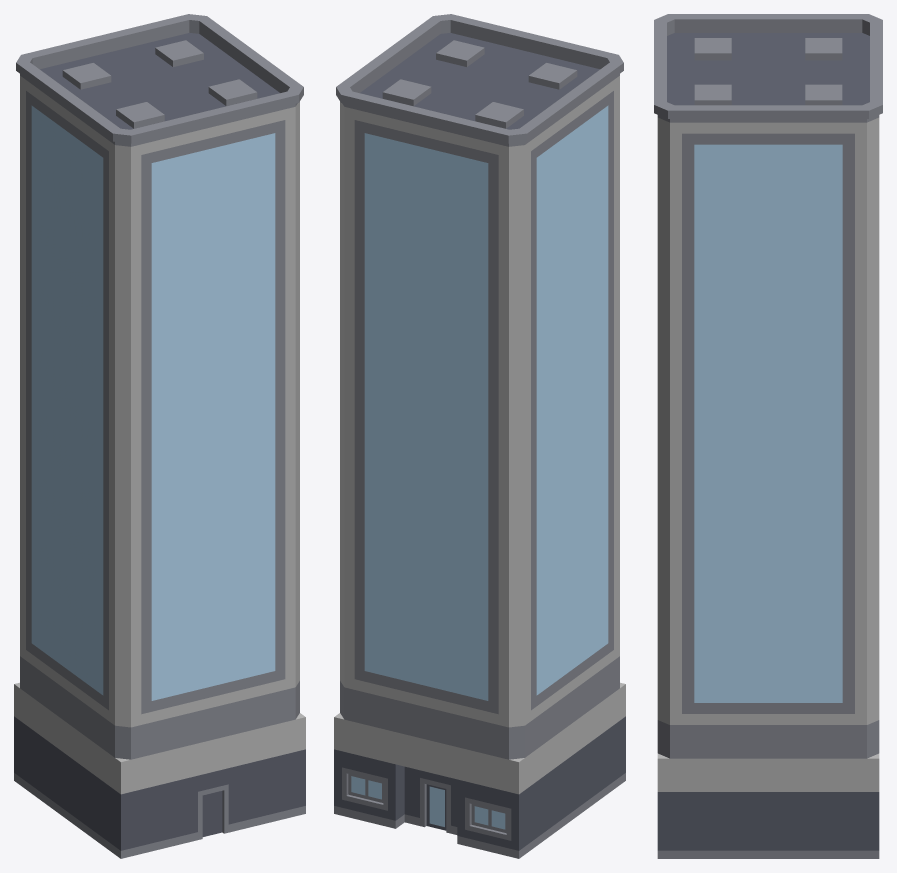
Rendered from home-mo.glb.
3 views of the same model, side by side, from view 1: azimuth 30°, elevation 25°; view 2: azimuth 150°, elevation 25°; view 3: azimuth 270°, elevation 25° (orthographic). The views are drawn at different scales.
Parts seen in each view (by area): view 1: skyscraperB; view 2: skyscraperB; view 3: skyscraperB.
Boxes of the visible parts, x1,y1,x2,y2 form: skyscraperB: [14, 14, 305, 858]; skyscraperB: [334, 14, 625, 858]; skyscraperB: [654, 14, 882, 858].
Size of the model in its own units: 1.24 by 4.48 by 1.24.
